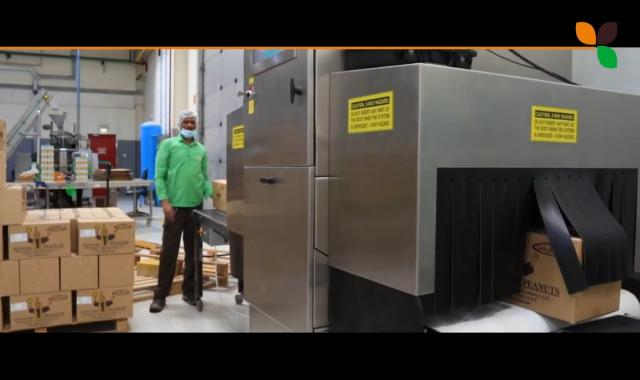hairnet: (178, 109, 198, 131)
